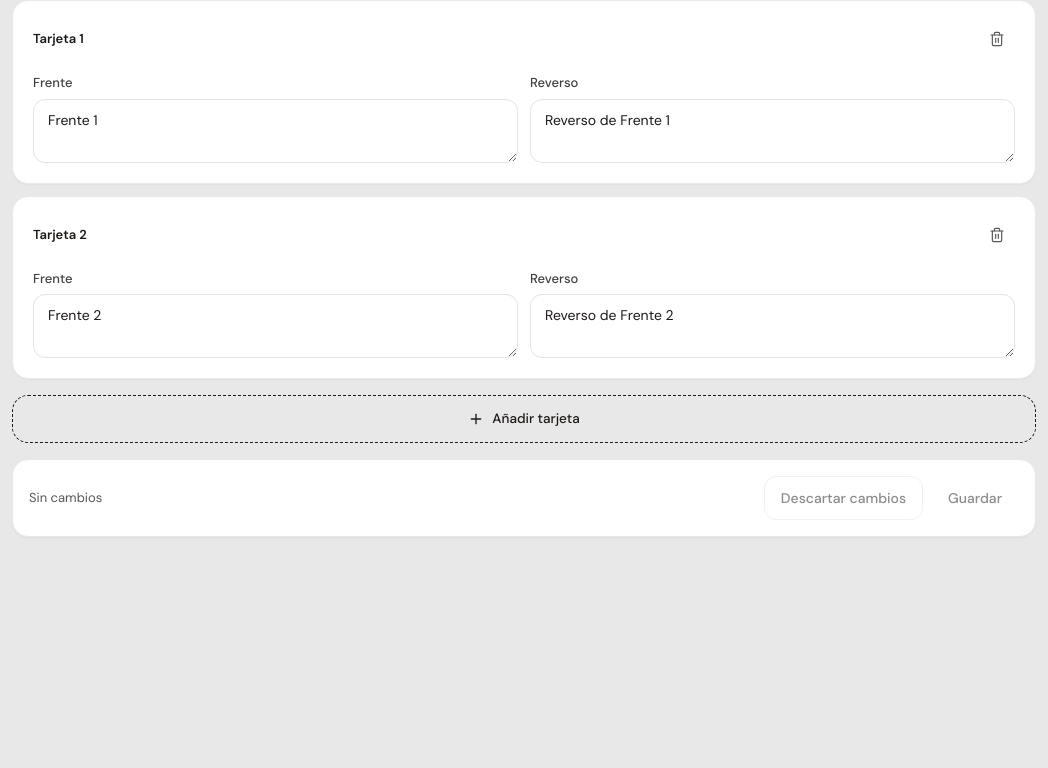
Test: DeckEditor › explains a FLASHCARD_NOT_FOUND refusal and keeps the draft
Replace the text in the text box labelled "Frente" below "Tarjeta 1" with "Nuevo" at (276, 130), box [33,98,518,162]
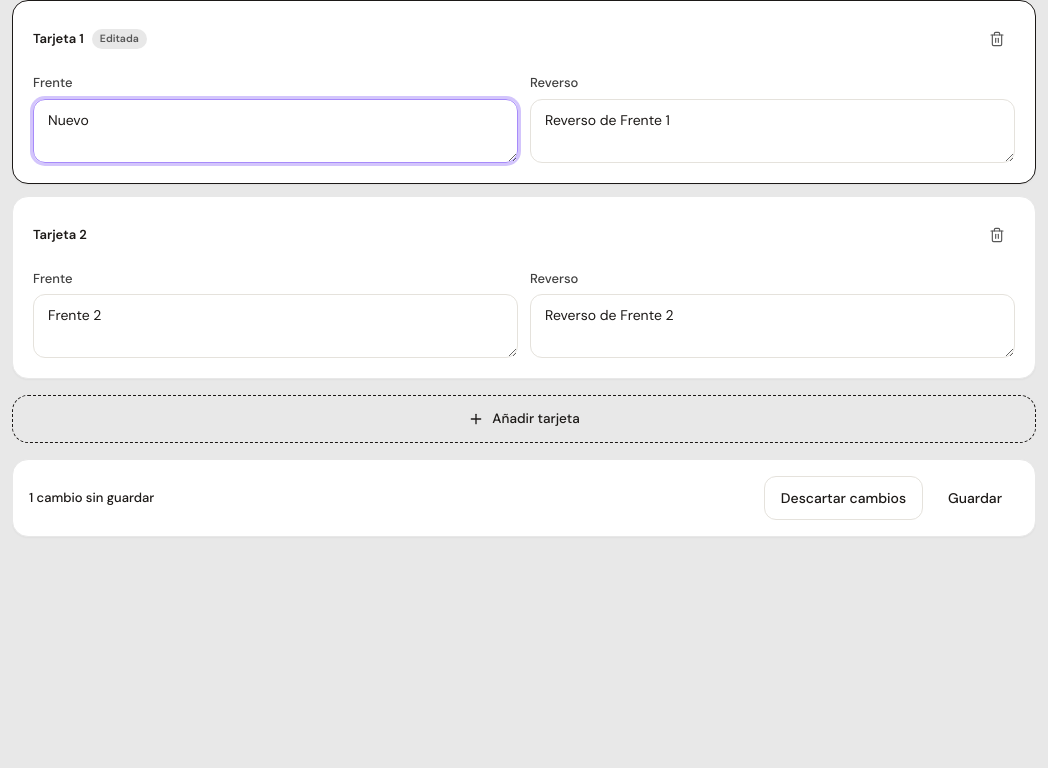
Click the button "Guardar" at (975, 498), box [931,476,1019,520]
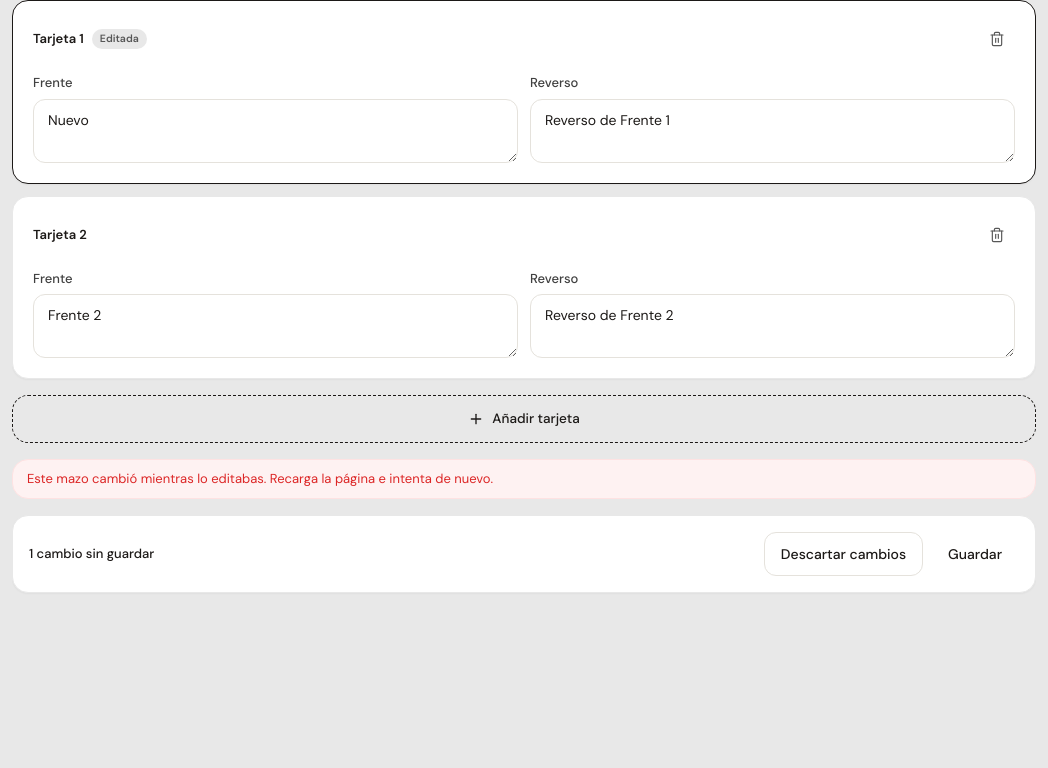
Expected: the text "1 cambio sin guardar" is shown, [29,544,154,564]
Expected: the message shows "cambió mientras lo editabas", [27,470,493,487]
